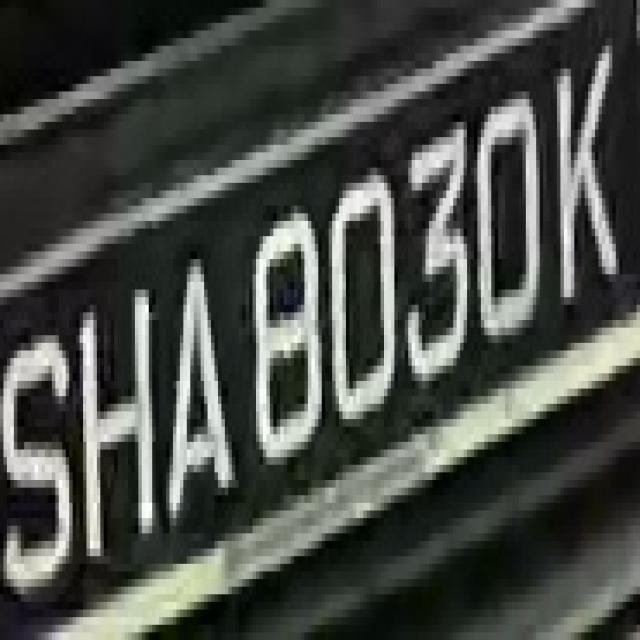0: (318, 160, 402, 442), (474, 84, 543, 366)
3: (394, 91, 478, 412)
8: (242, 198, 325, 511)
A: (152, 244, 235, 510)
H: (86, 259, 162, 564)
K: (547, 38, 619, 305)
S: (7, 282, 76, 617)
